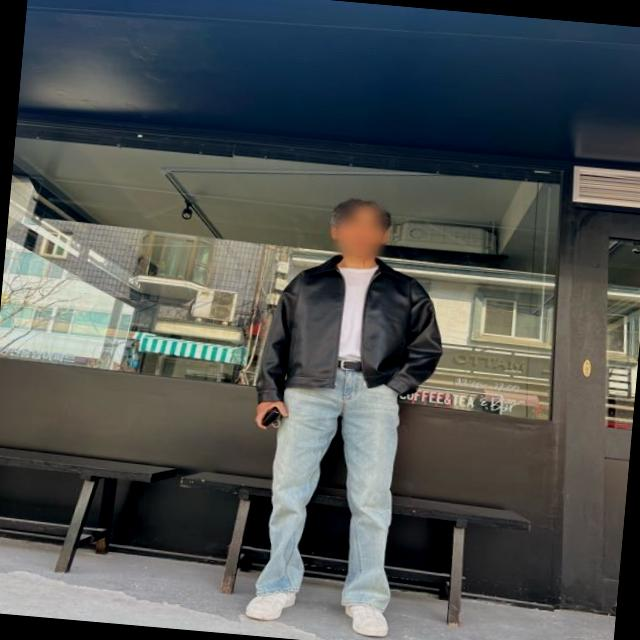denimpants: (260, 352, 414, 607)
jacket: (253, 246, 447, 413)
